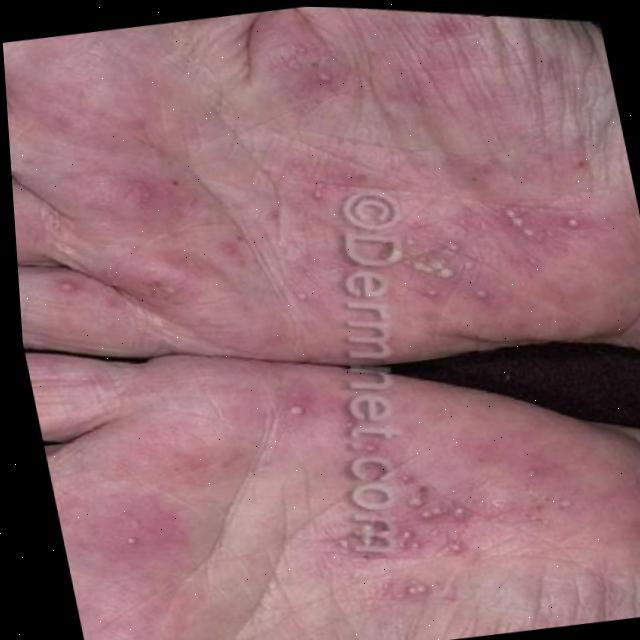Eczema: (107, 2, 621, 602)
